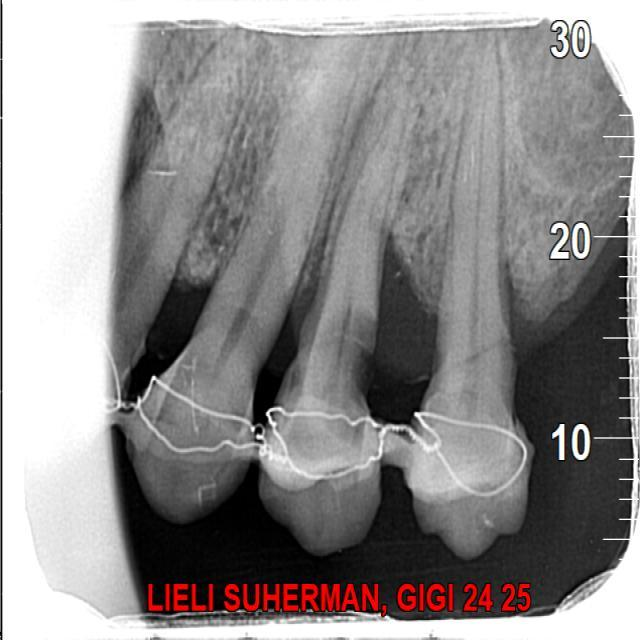individual-tooth-8tto: (120, 38, 364, 521), (260, 81, 415, 558), (407, 34, 530, 554)
